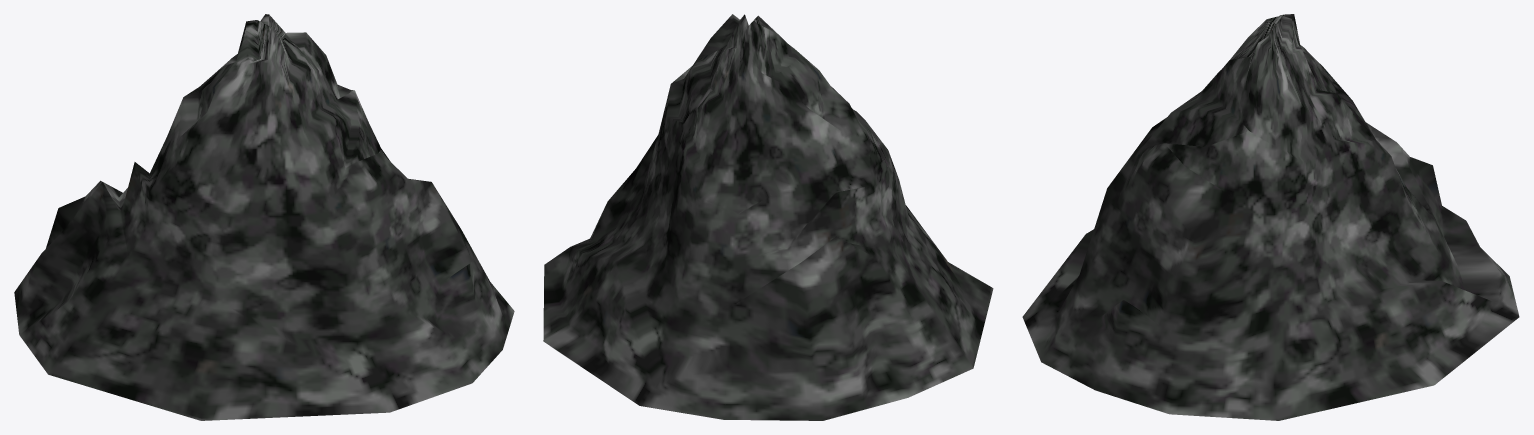
Rendered from INST_SWORDLIGHT_OREC.fbx.
3 views of the same model, side by side, from view 1: azimuth 30°, elevation 25°; view 2: azimuth 150°, elevation 25°; view 3: azimuth 270°, elevation 25° (orthographic).
Visible parts, largest first — view 1: INST_SWORDLIGHT_OREC; view 2: INST_SWORDLIGHT_OREC; view 3: INST_SWORDLIGHT_OREC.
Part boxes in pixels (left/top/right/bottom): INST_SWORDLIGHT_OREC: left=14, top=14, right=514, bottom=420; INST_SWORDLIGHT_OREC: left=543, top=14, right=993, bottom=420; INST_SWORDLIGHT_OREC: left=1022, top=14, right=1519, bottom=420.
Size of the model in its own units: 20785 by 14105 by 20693.
1 material, 1 textured.
